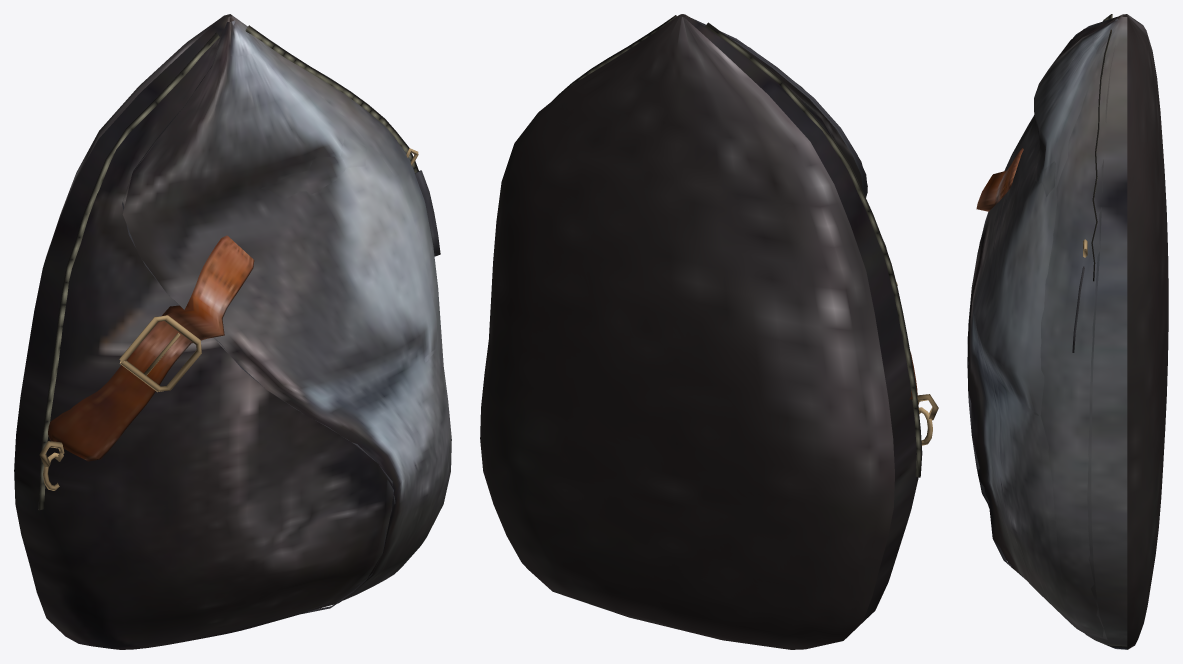
File: BlackLeatherSling.glb
3 renders of one model, left to right at view 1: azimuth 30°, elevation 25°; view 2: azimuth 150°, elevation 25°; view 3: azimuth 270°, elevation 25°, orthographic. The views are drawn at different scales.
Visible parts, largest first — view 1: Black leather sling bag; view 2: Black leather sling bag; view 3: Black leather sling bag.
Part boxes in pixels (x1=…): Black leather sling bag: x1=14, y1=14, x2=451, y2=649; Black leather sling bag: x1=480, y1=14, x2=938, y2=649; Black leather sling bag: x1=967, y1=14, x2=1168, y2=649.
Size of the model in its own units: 0.7219 by 0.9976 by 0.3124.
1 material, 1 textured.
